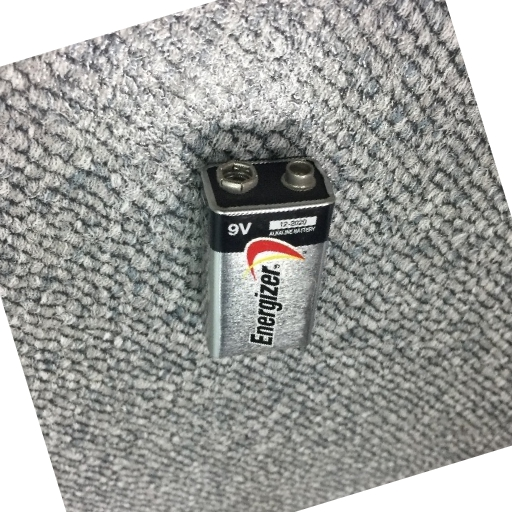Battery_3: (173, 137, 342, 377)
